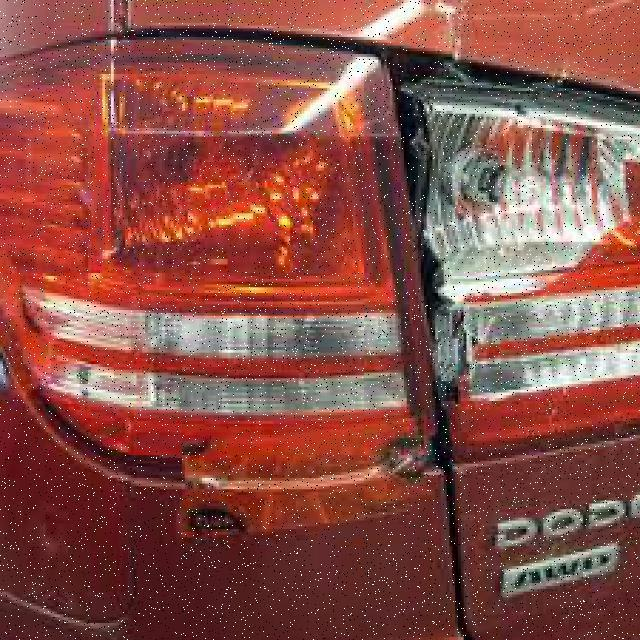Taillight-Damage: (0, 19, 637, 507)
